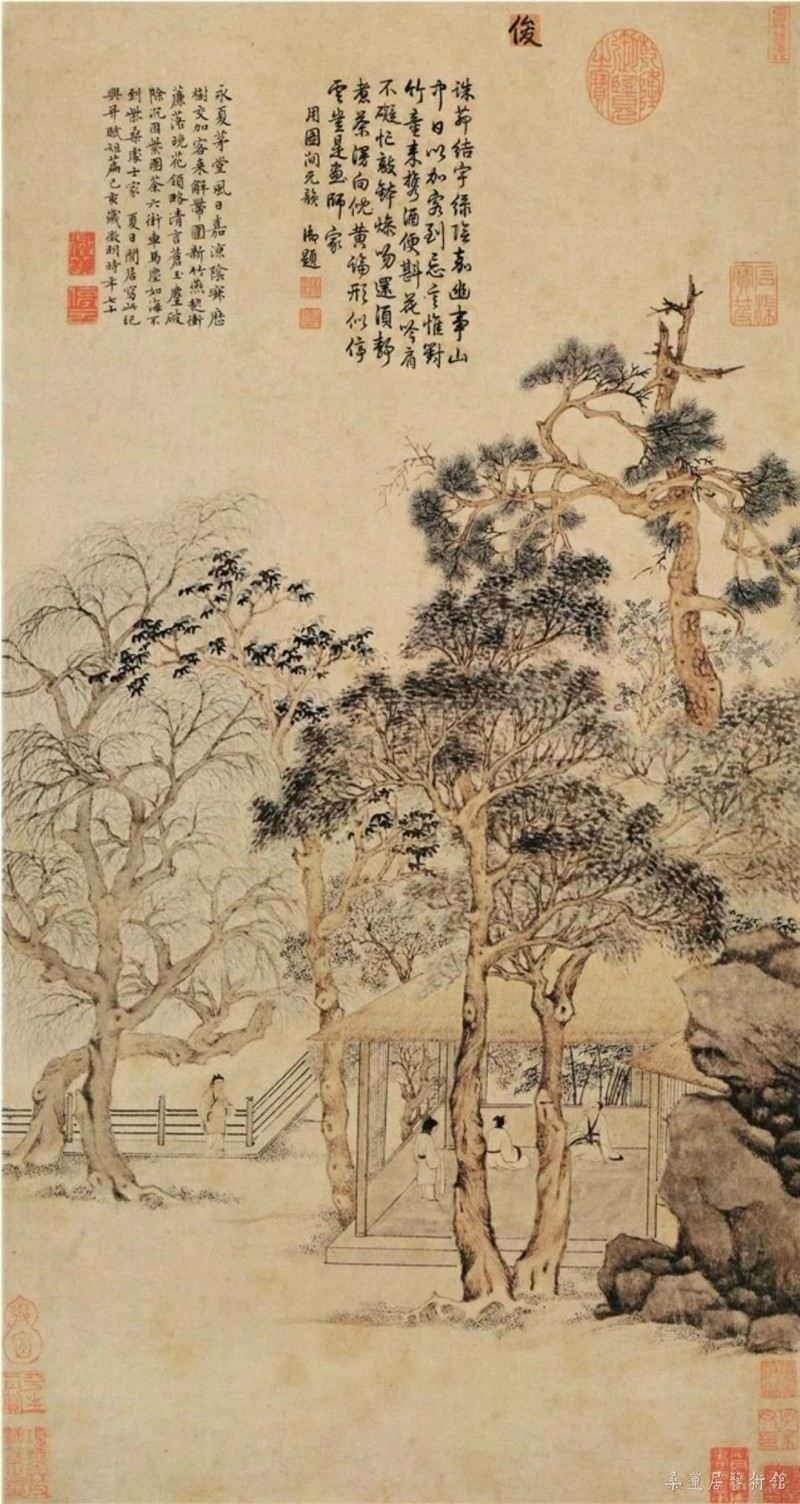hill: (665, 965, 800, 1346)
house: (343, 923, 684, 1274)
man: (487, 1115, 522, 1209), (579, 1098, 617, 1166), (416, 1117, 441, 1206), (208, 1074, 232, 1154)
tree: (22, 550, 354, 1033), (349, 668, 622, 984), (419, 468, 600, 693), (640, 319, 733, 733), (630, 731, 800, 938), (459, 995, 503, 1309), (546, 995, 567, 1284)
